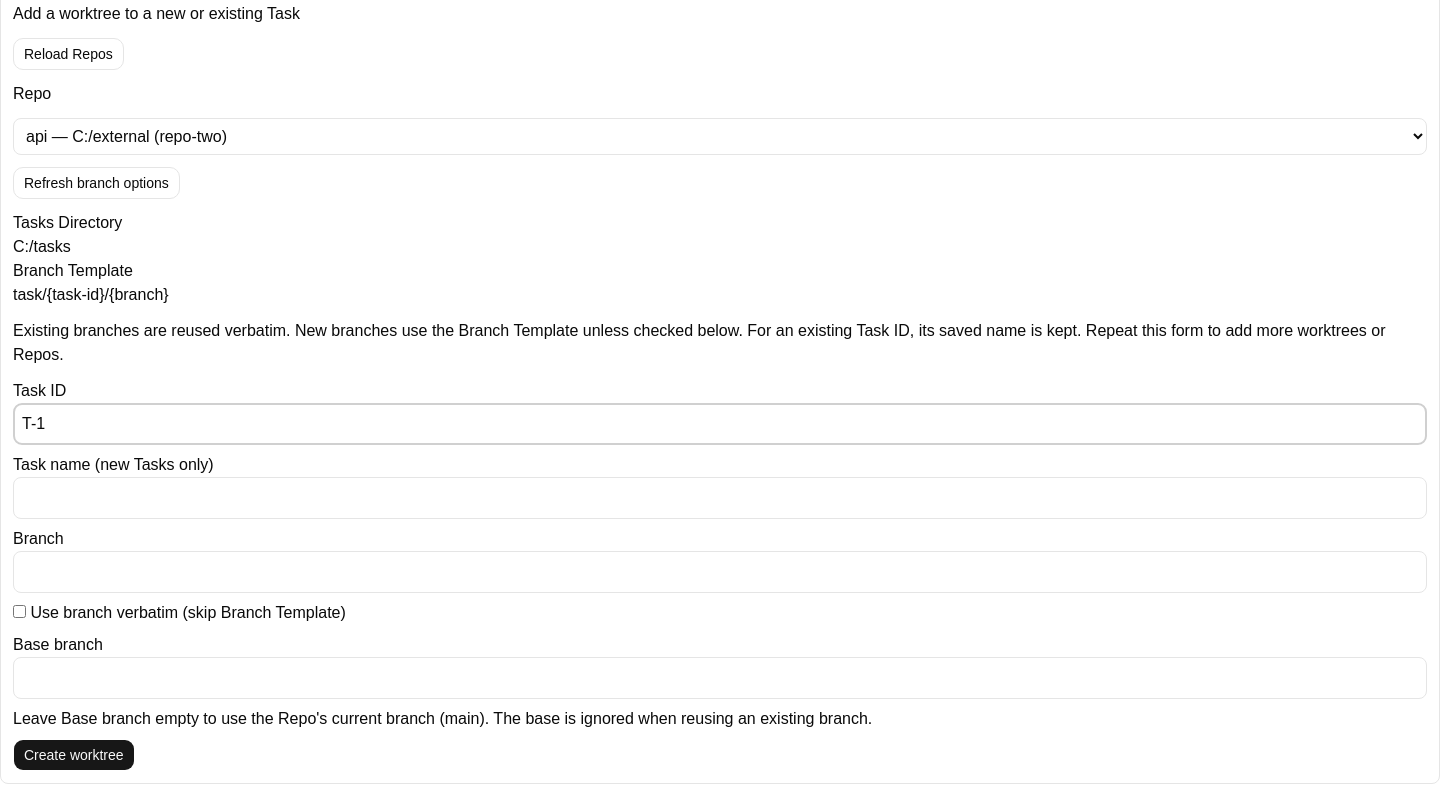
Test: creates using explicit identities, template or verbatim branch, and base without losing inputs on failure
Earlier steps of the test are not shown.
In the field labelled "Task name (new Tasks only)": (720, 498) [13,477,1427,519], type "日本語"
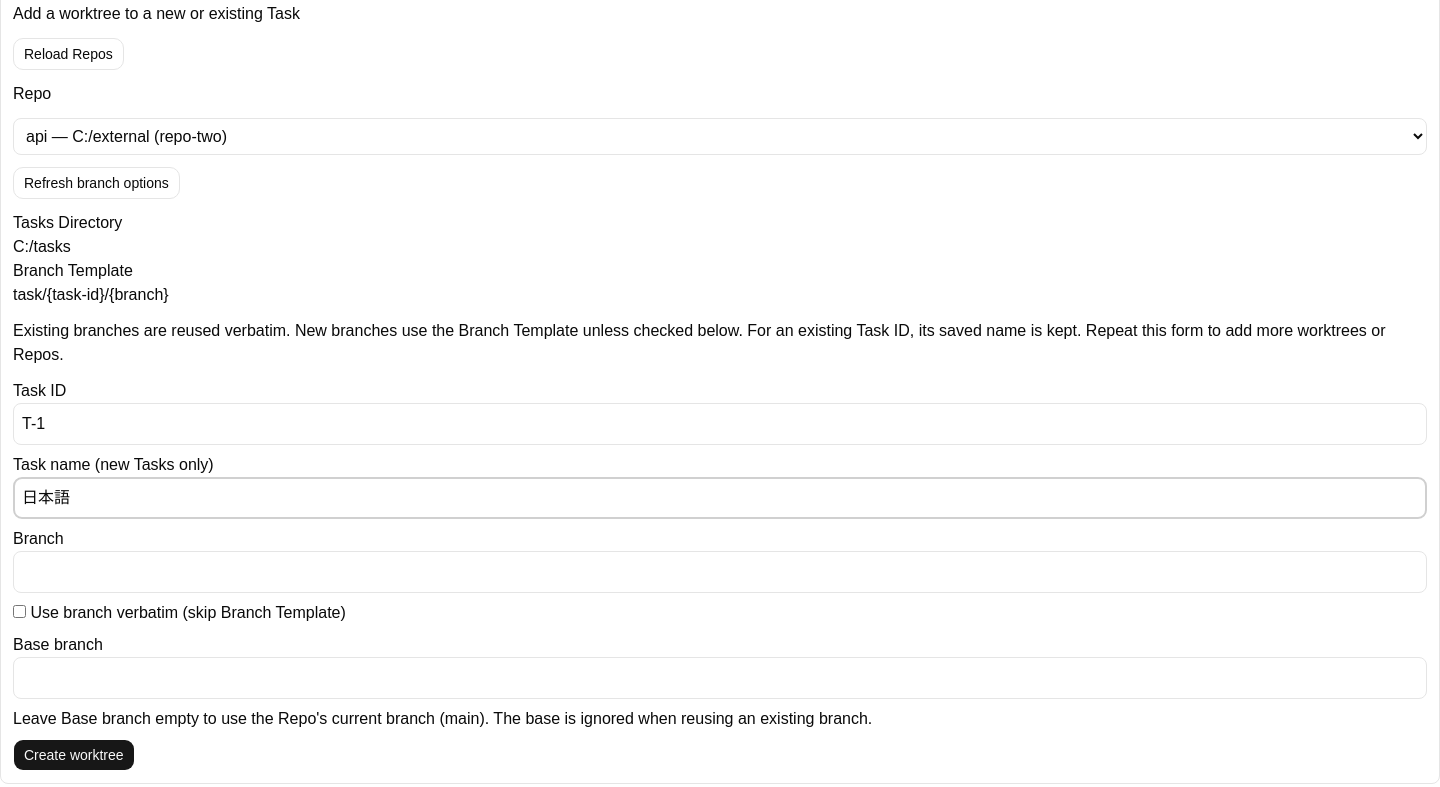
In the field labelled "Branch": (720, 572) [13,551,1427,593], type "fix"
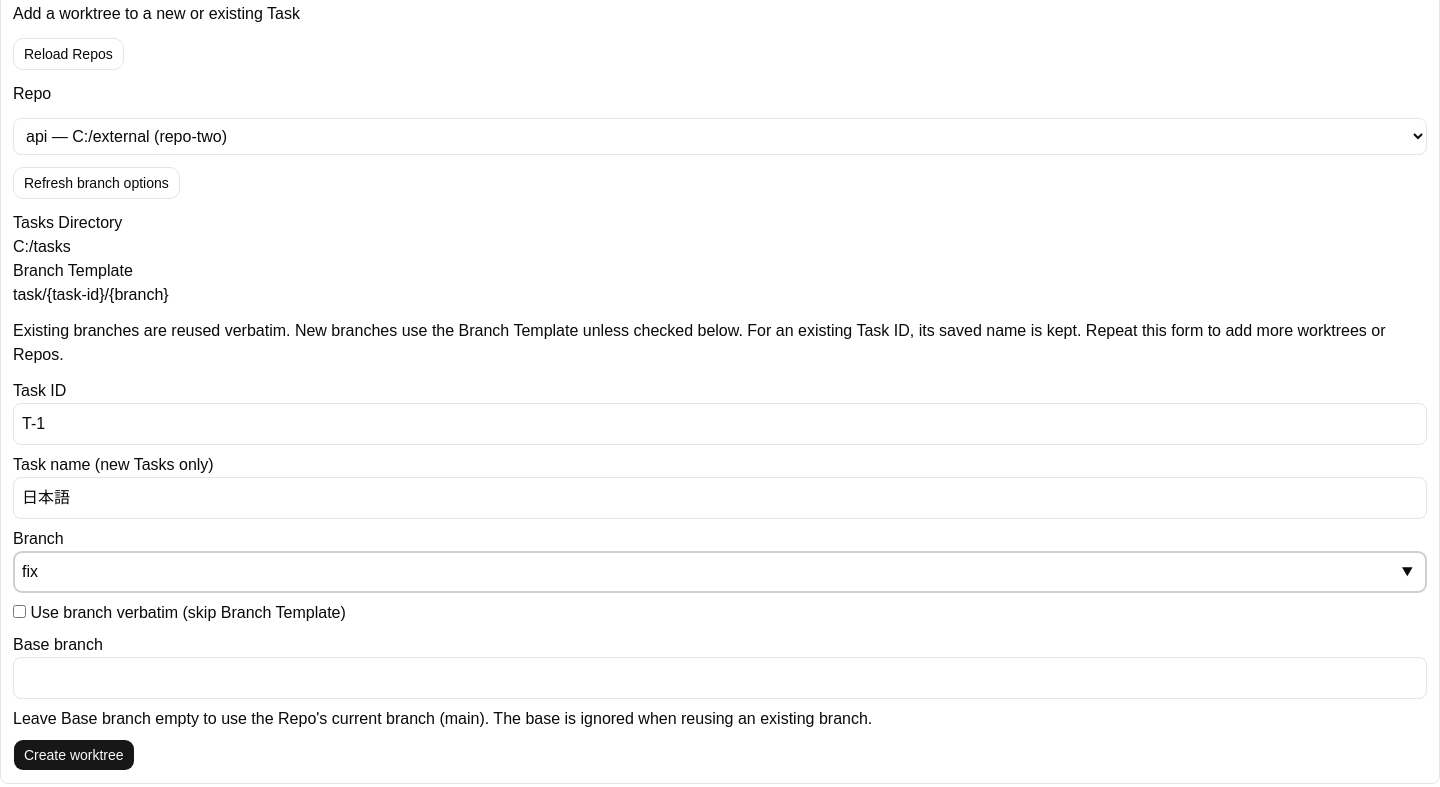
In the field labelled "Base branch": (720, 678) [13,657,1427,699], type "existing"
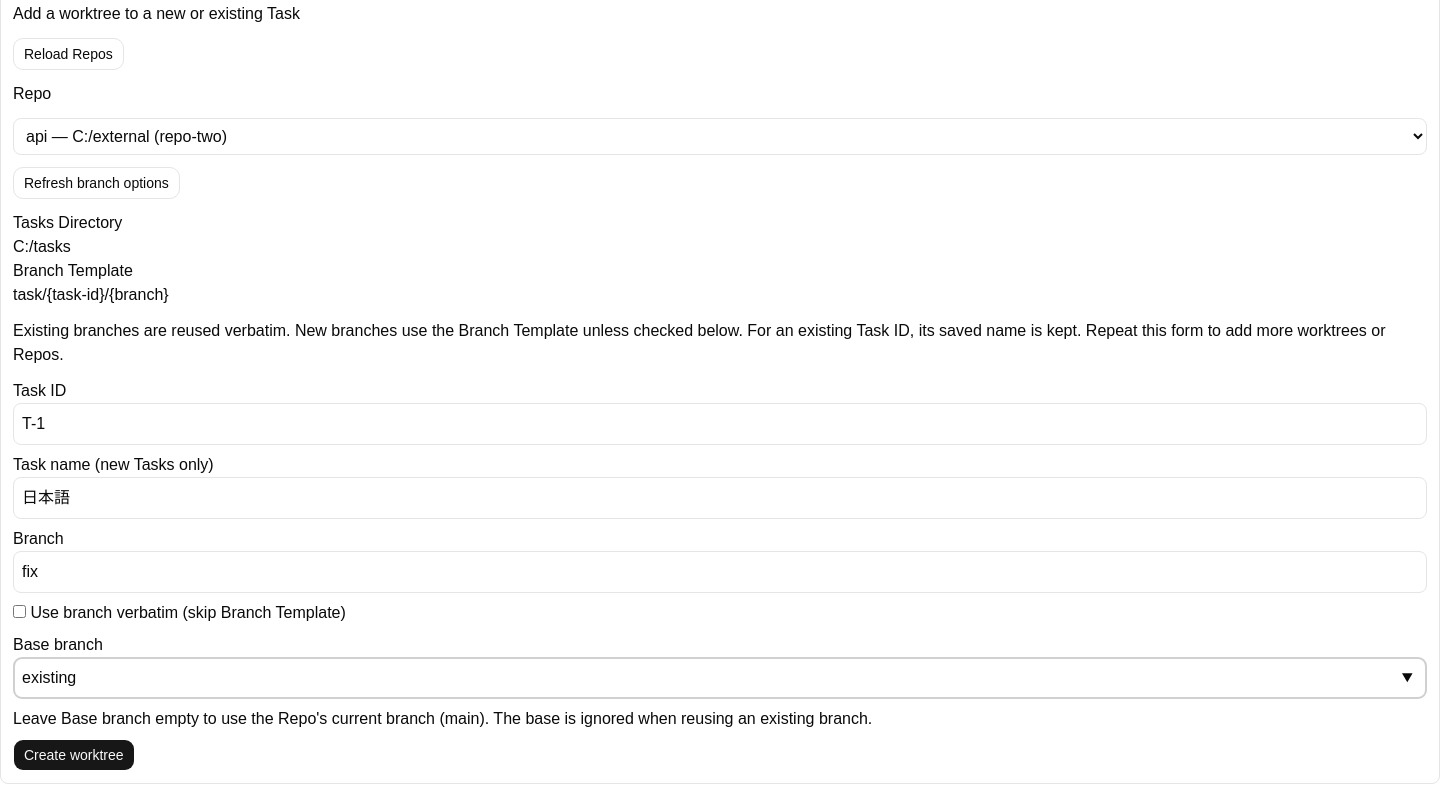
Click the button "Create worktree": (74, 755) [13,739,135,771]
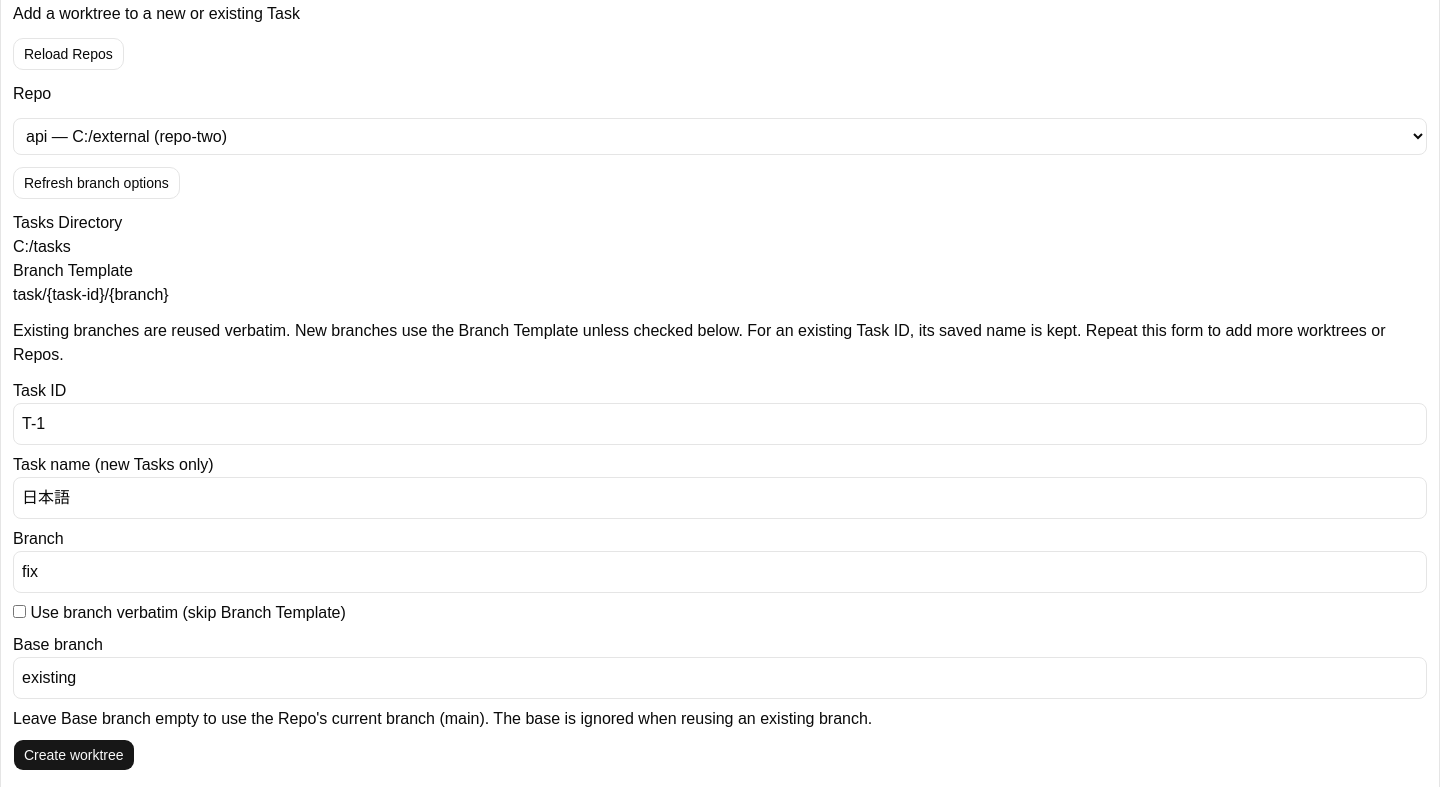
Click the checkbox labelled "Use branch verbatim (skip Branch Template)": (20, 612) [13,605,26,618]
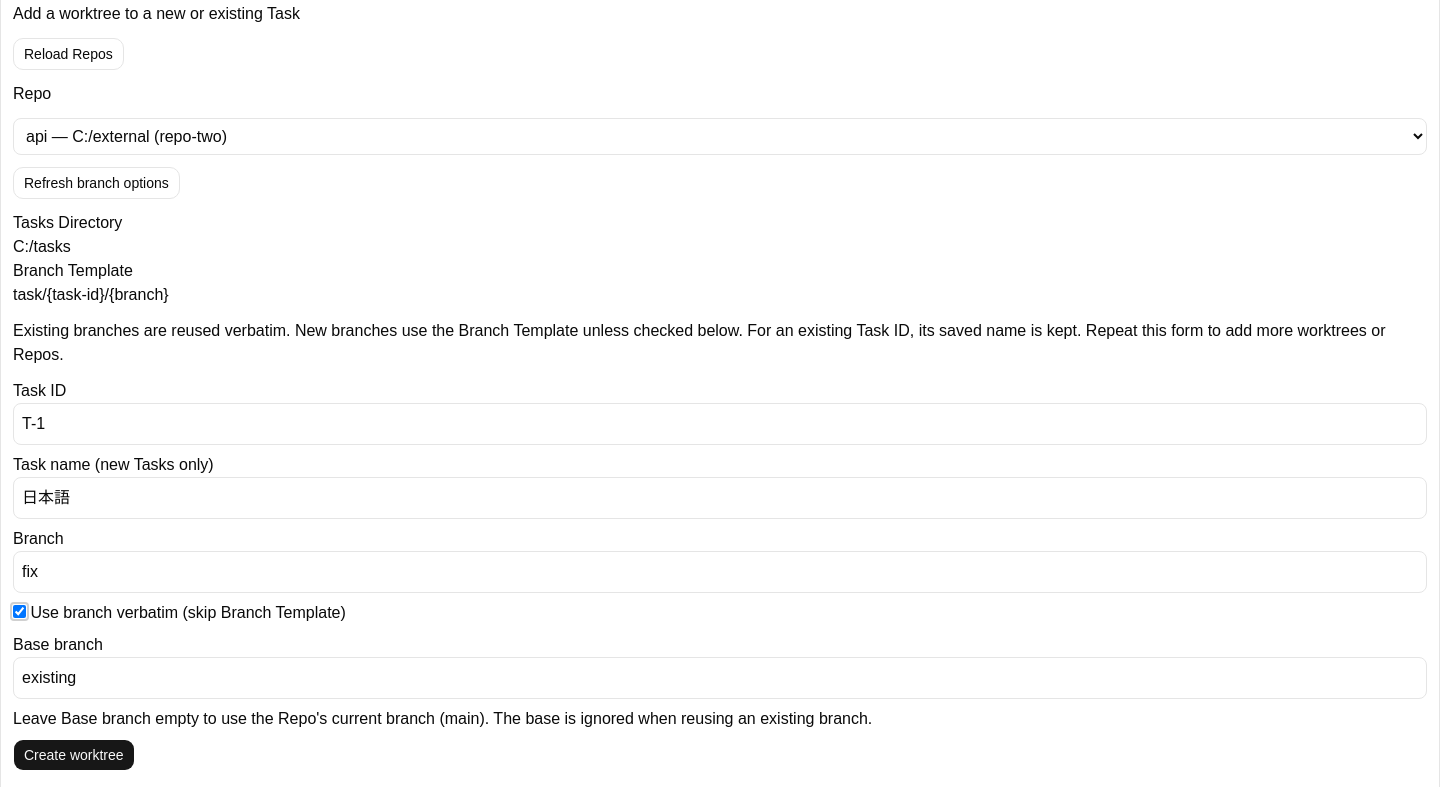
Click the button "Create worktree": (74, 755) [13,739,135,771]
(page scrolled)
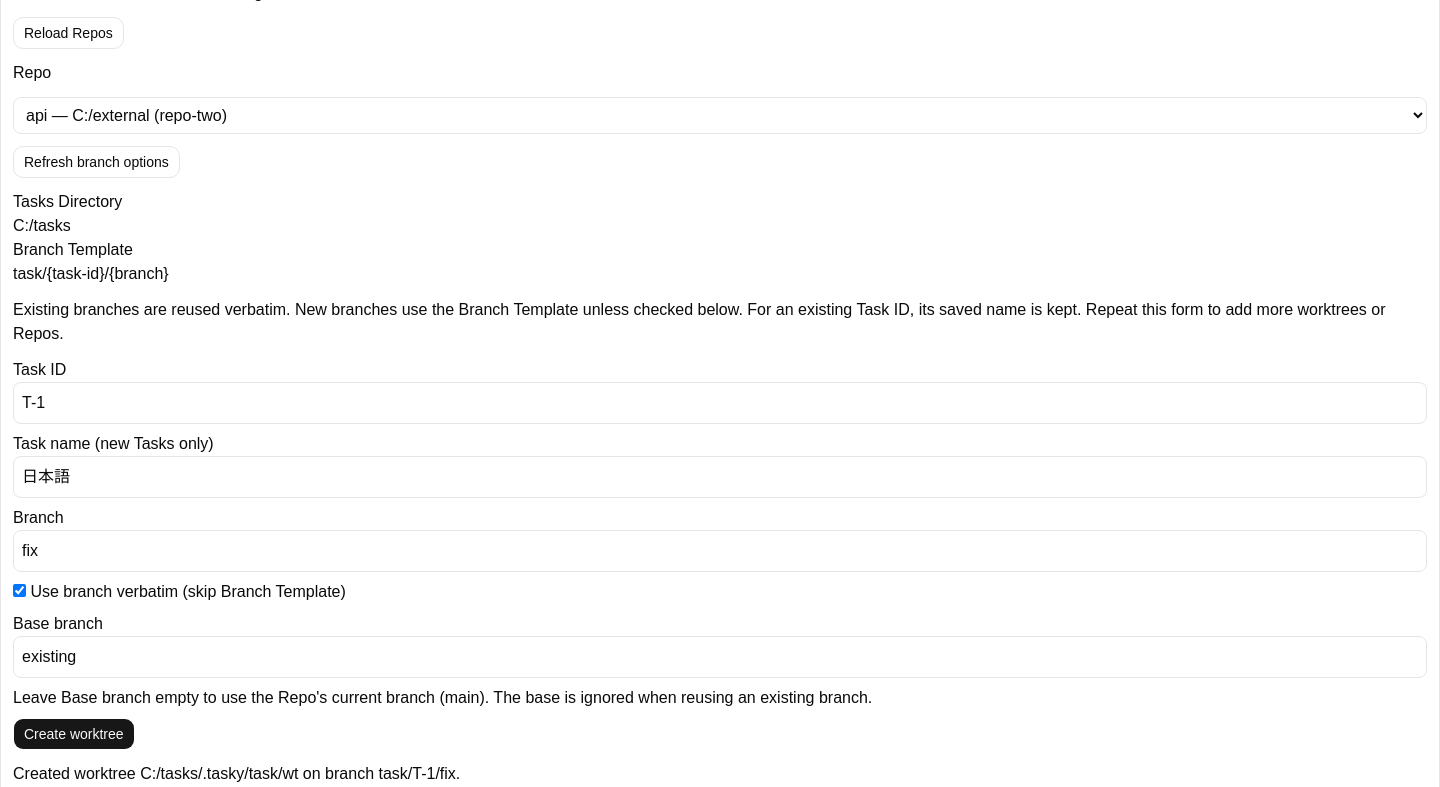
Result: the text "Created worktree C:/tasks/.tasky/task/wt on branch task/T-1/fix." is shown at [13,765,460,782]
